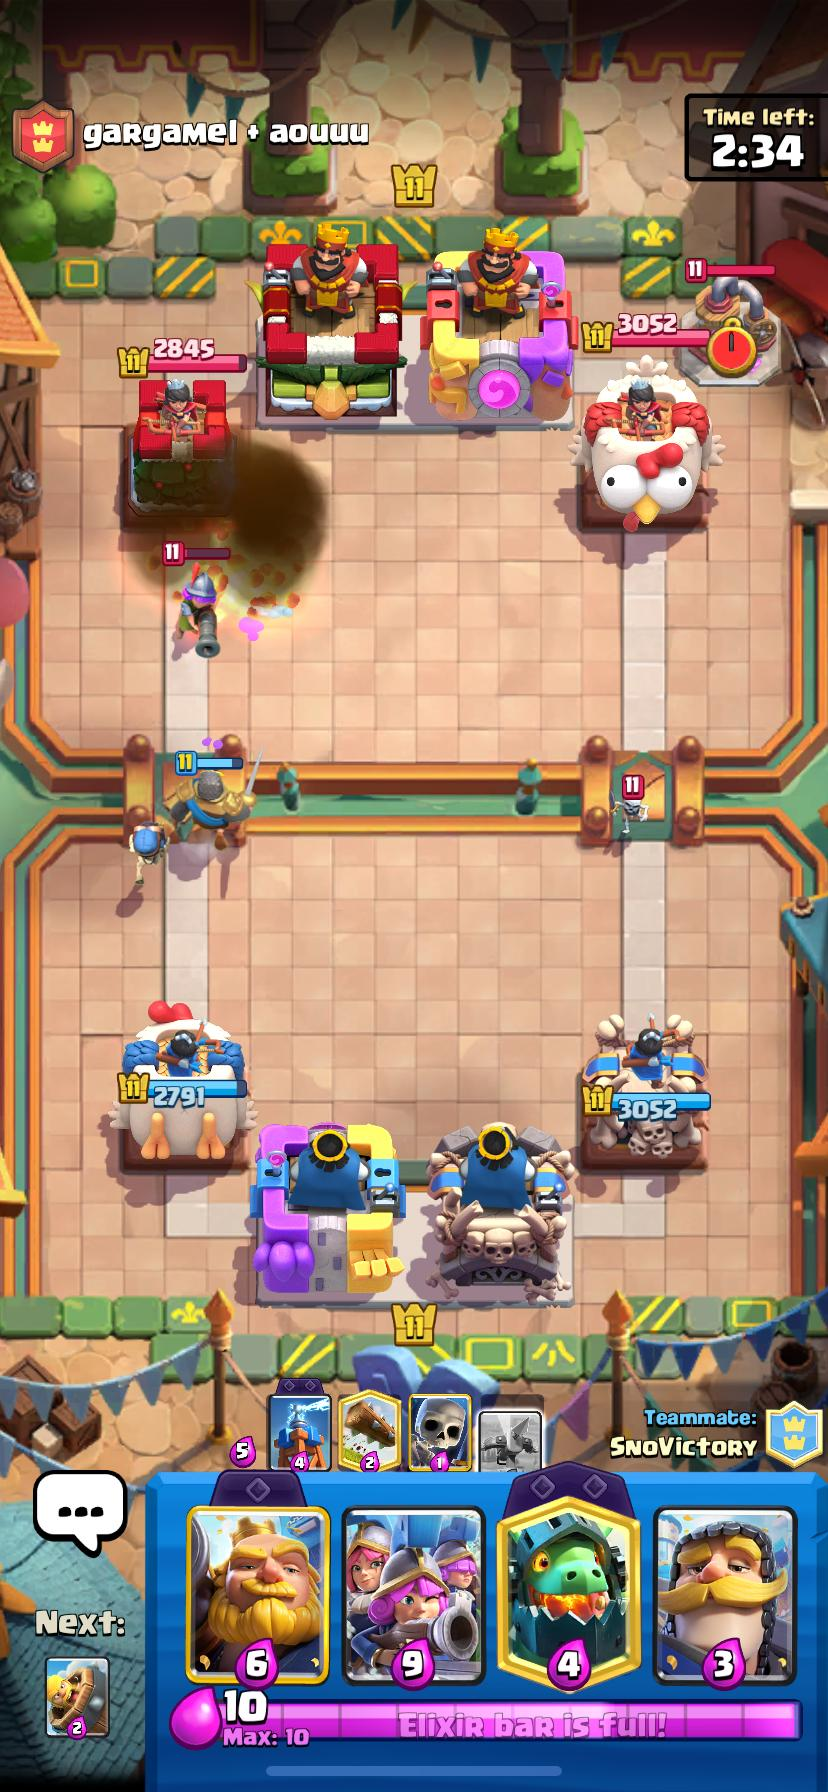EKingTower: (428, 225, 578, 419), (257, 226, 401, 418)
ELarry: (613, 765, 662, 837)
EMusk: (176, 563, 226, 661)
EPump: (674, 277, 780, 385)
EnemyPrincessTower: (576, 365, 720, 529), (126, 376, 234, 513)
OBomber: (120, 817, 169, 889)
OKnight: (172, 768, 254, 849)
OwnKingTower: (428, 1123, 574, 1305), (253, 1123, 403, 1299)
OwnPrincessTower: (109, 1017, 254, 1160), (580, 1015, 710, 1162)
